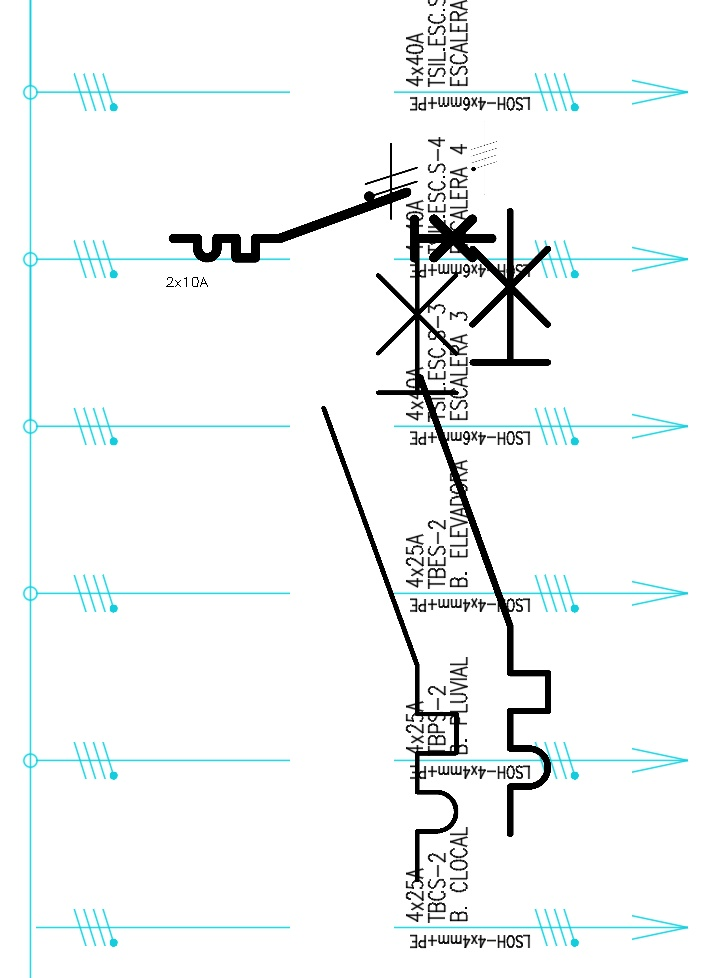interruptor_termomagnetico: (307, 219, 473, 896), (404, 195, 564, 850), (165, 184, 500, 266)
